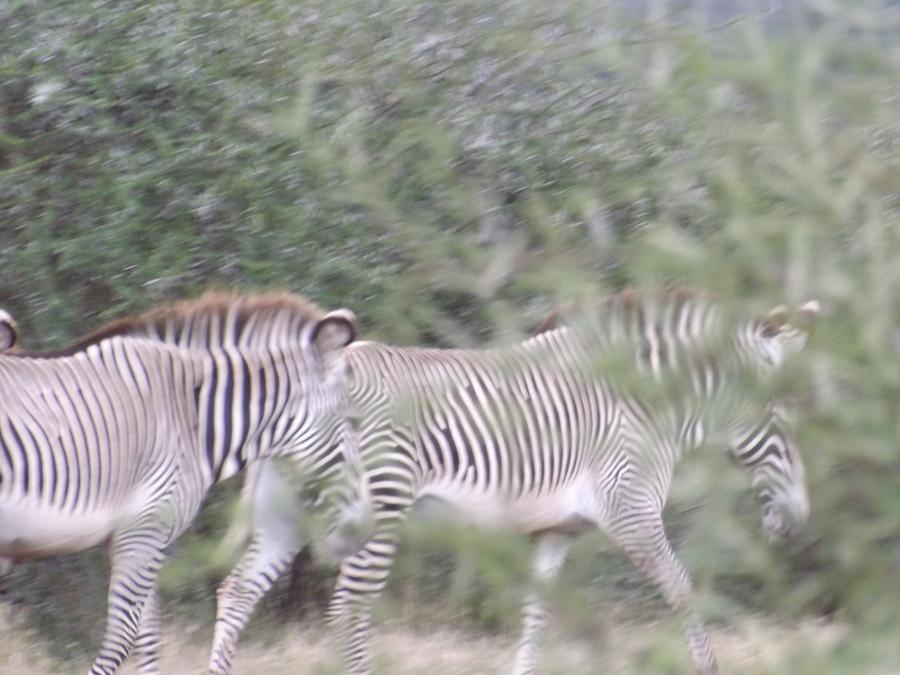zebra_grevys: (355, 315, 675, 514)
